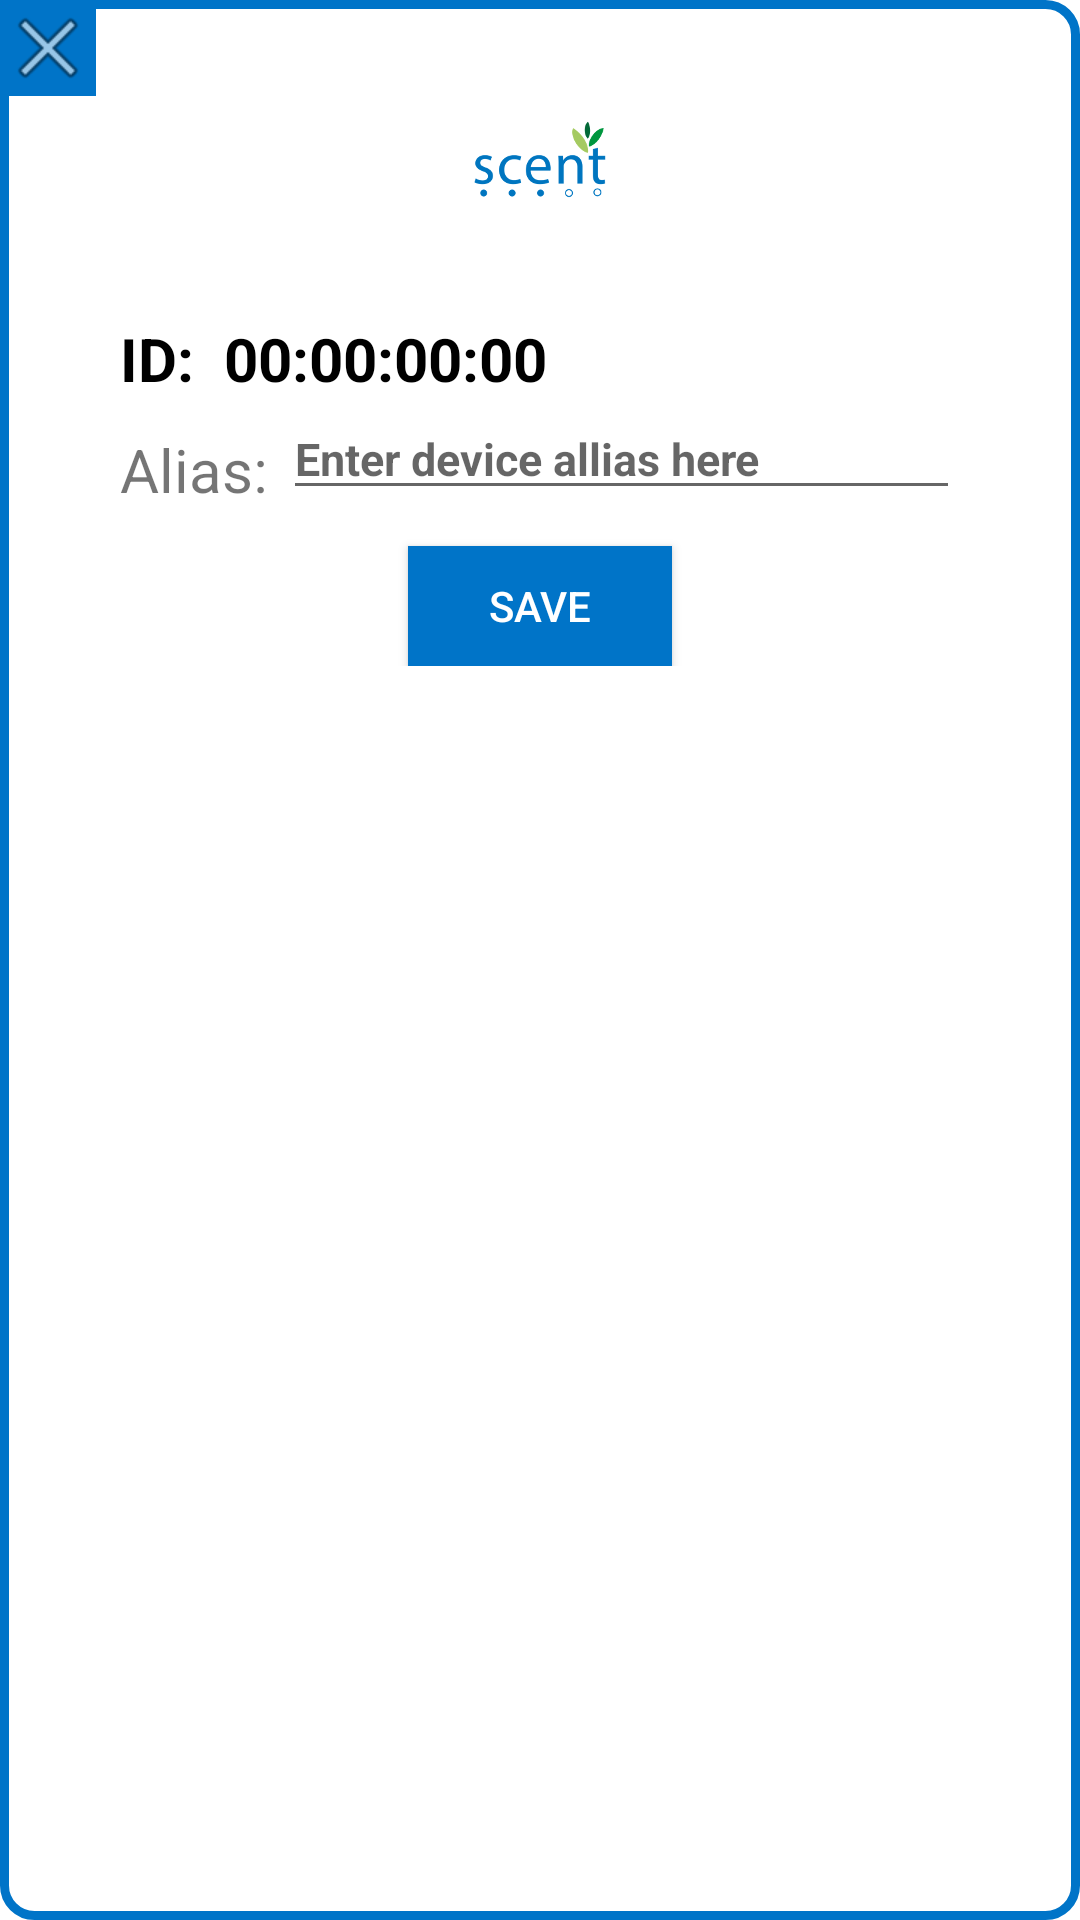

Named icons in this screenshot (1080 x 1920) and their centers, point (x, y):
close clear cancel: point (48, 48)
